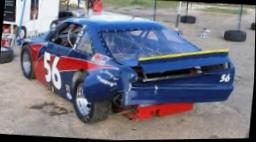Bumper: (115, 71, 233, 120)
Dickey: (116, 50, 230, 86)
Fender: (81, 60, 139, 104)
Windshield: (100, 28, 204, 59)
